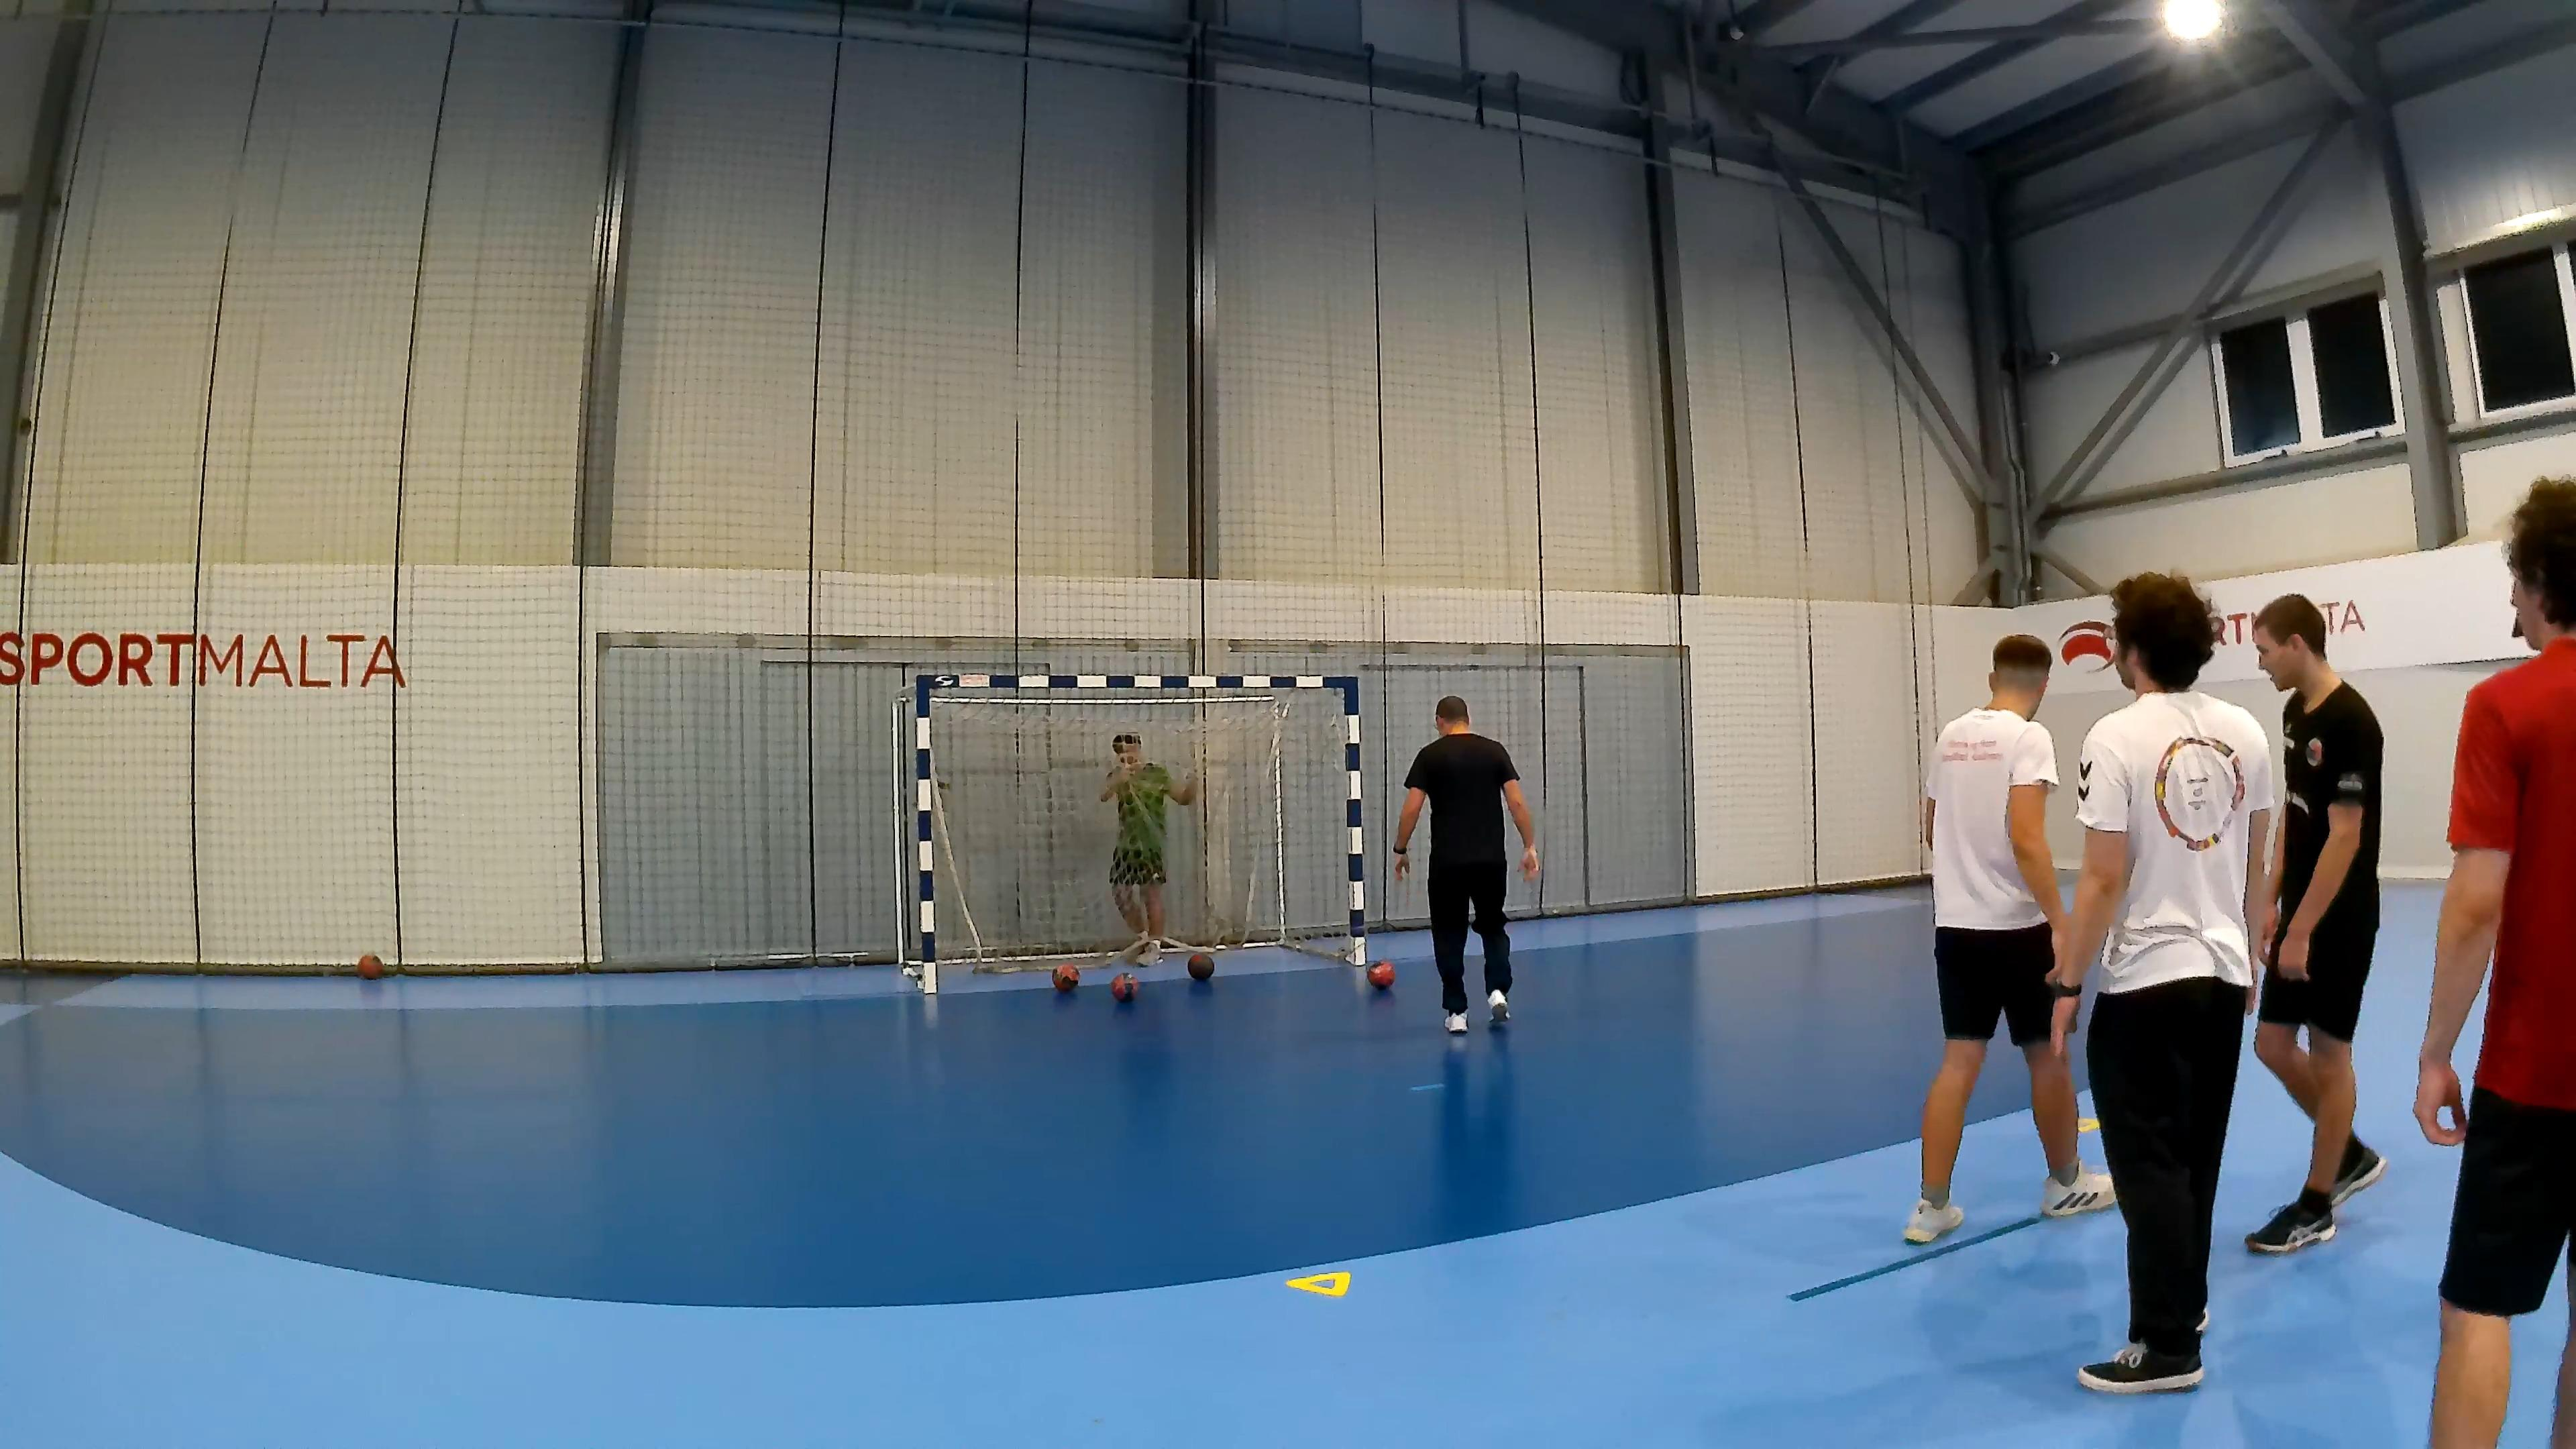handball: (1185, 952, 1214, 980), (1366, 959, 1394, 987), (1051, 962, 1077, 991), (1111, 971, 1138, 1000)
